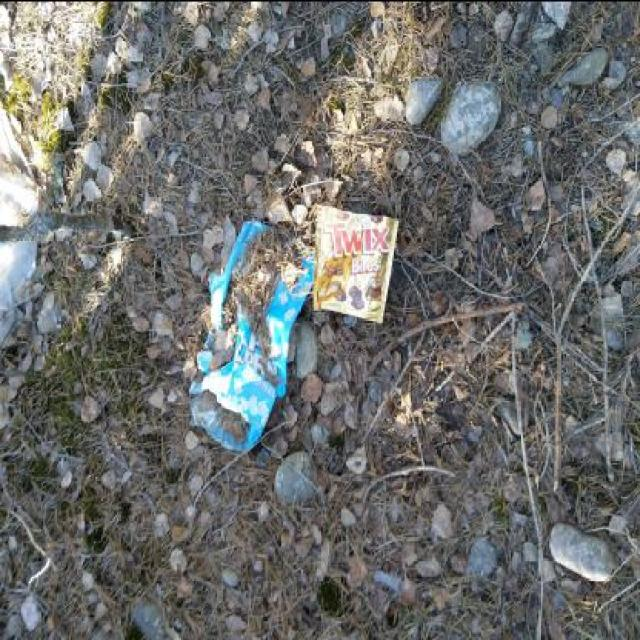plastic: (188, 216, 317, 450), (312, 203, 399, 323)
